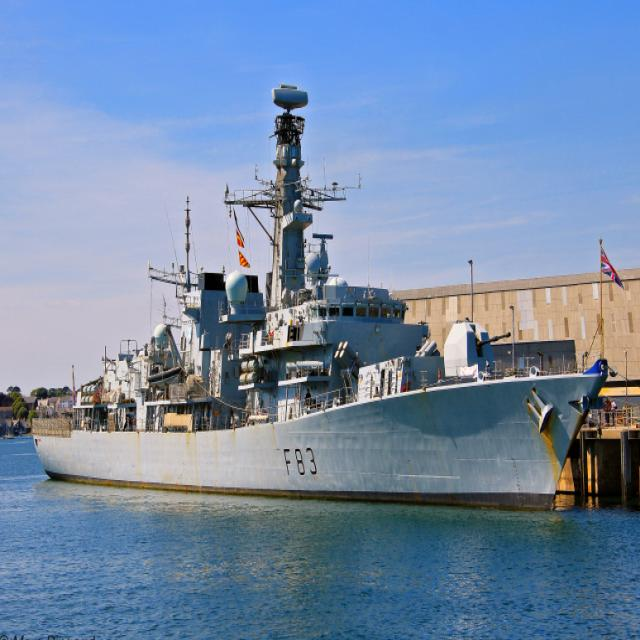Fragata: (31, 75, 615, 522)
